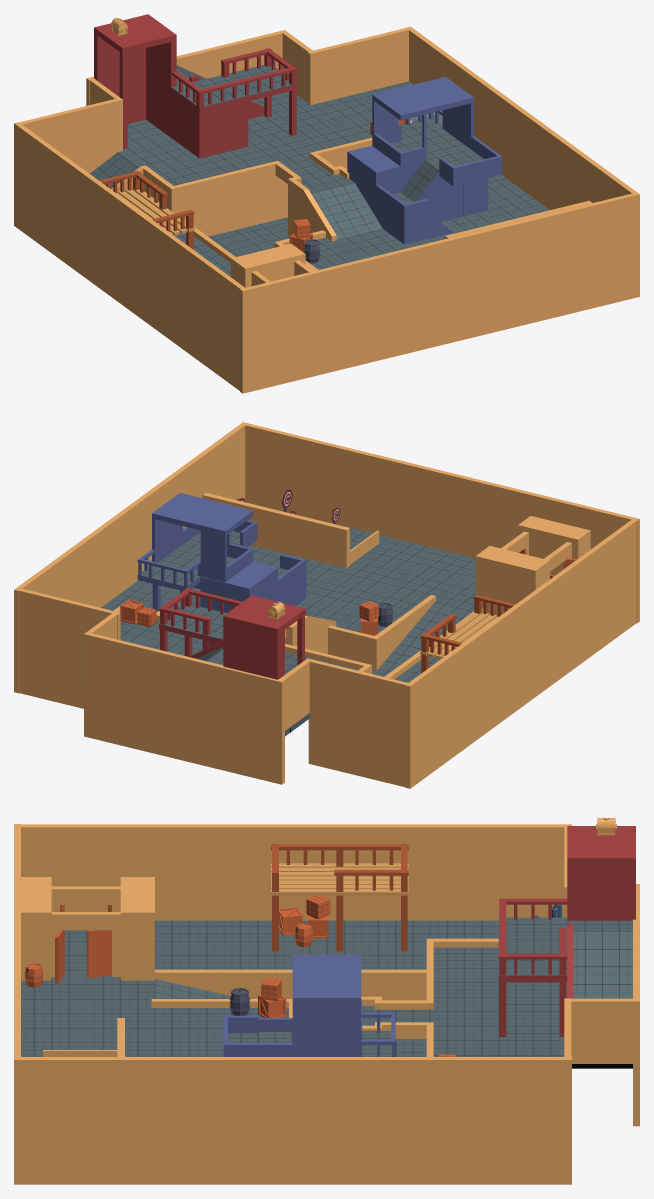
The model's file is prototype.gltf.
3 views of the same model, one above another, from view 1: azimuth 30°, elevation 25°; view 2: azimuth 150°, elevation 25°; view 3: azimuth 270°, elevation 25° (orthographic). The views are drawn at different scales.
Parts seen in each view (by area): view 1: geo; view 2: geo; view 3: geo.
Part boxes in pixels (x1,y1,x2,y2): geo: [14, 14, 639, 393]; geo: [14, 422, 639, 788]; geo: [14, 817, 639, 1184].
Size of what is drawn, in the model's own units: 32.45 by 13.39 by 36.4.
2 materials, 2 textured.
